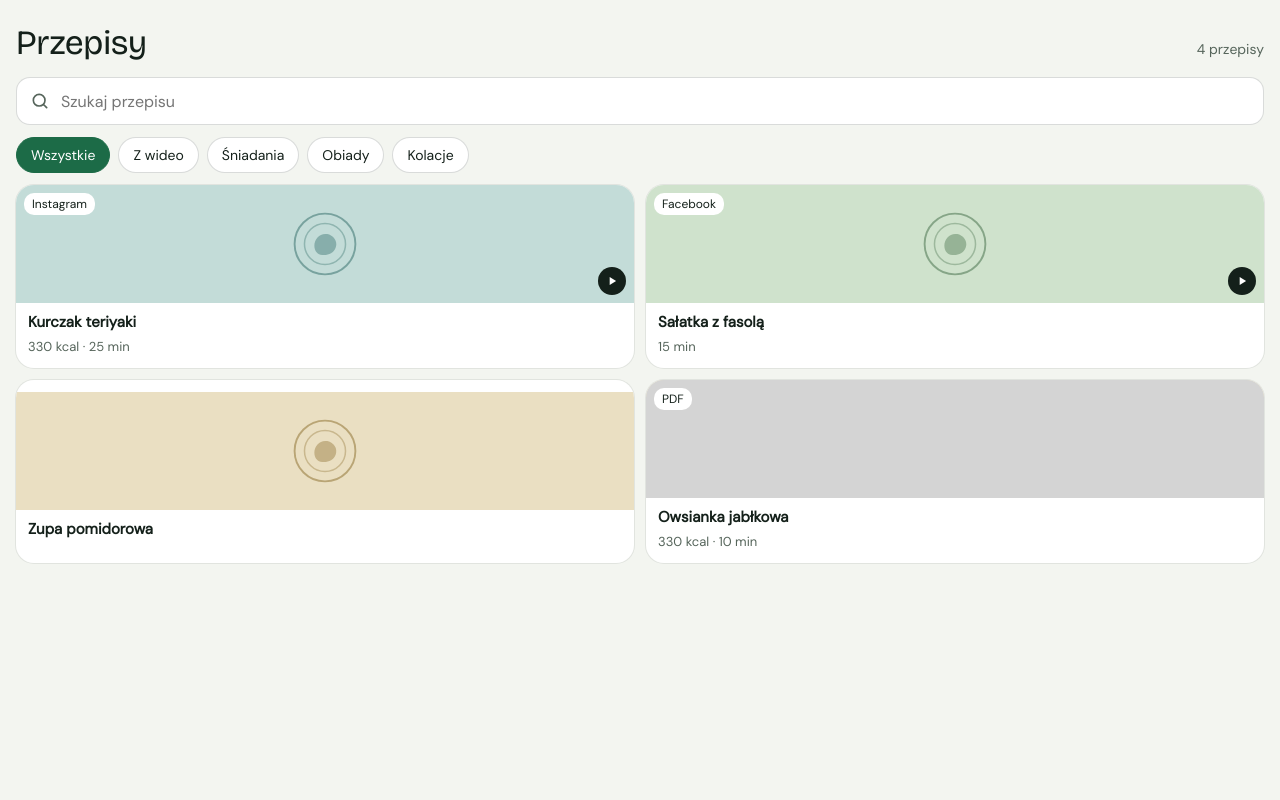
filtr Obiady pokazuje właściwe karty
The image size is (1280, 800).
Click the button "Obiady" at (346, 155), box [307,133,384,177]
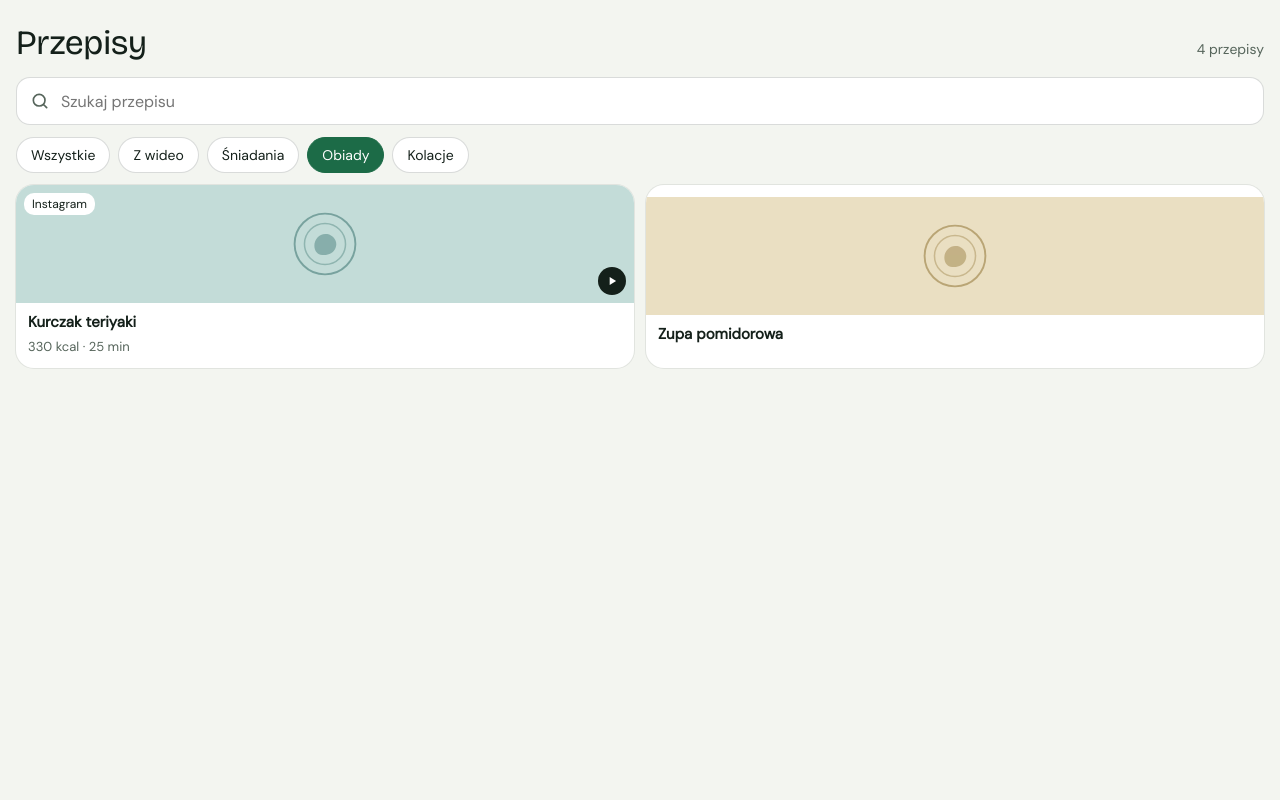
Expected: the text "4 przepisy" is shown, [1197,40,1264,60]
Result: the number of buttons "Instagram Kurczak teriyaki 330 kcal · 25 min" is 2 at [16,185,634,368]; [646,185,1264,368]
